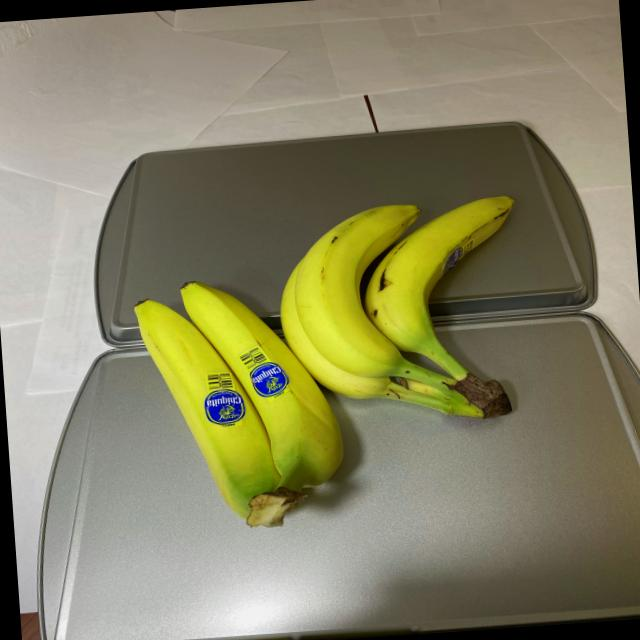banana: (122, 188, 548, 535)
